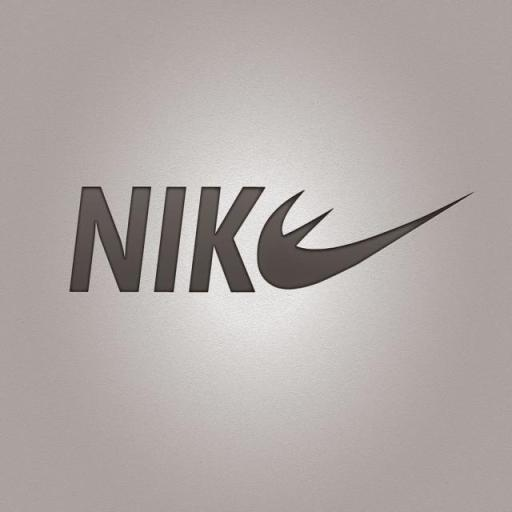Nike: (254, 195, 472, 289)
